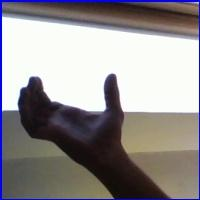space: (17, 69, 138, 168)
